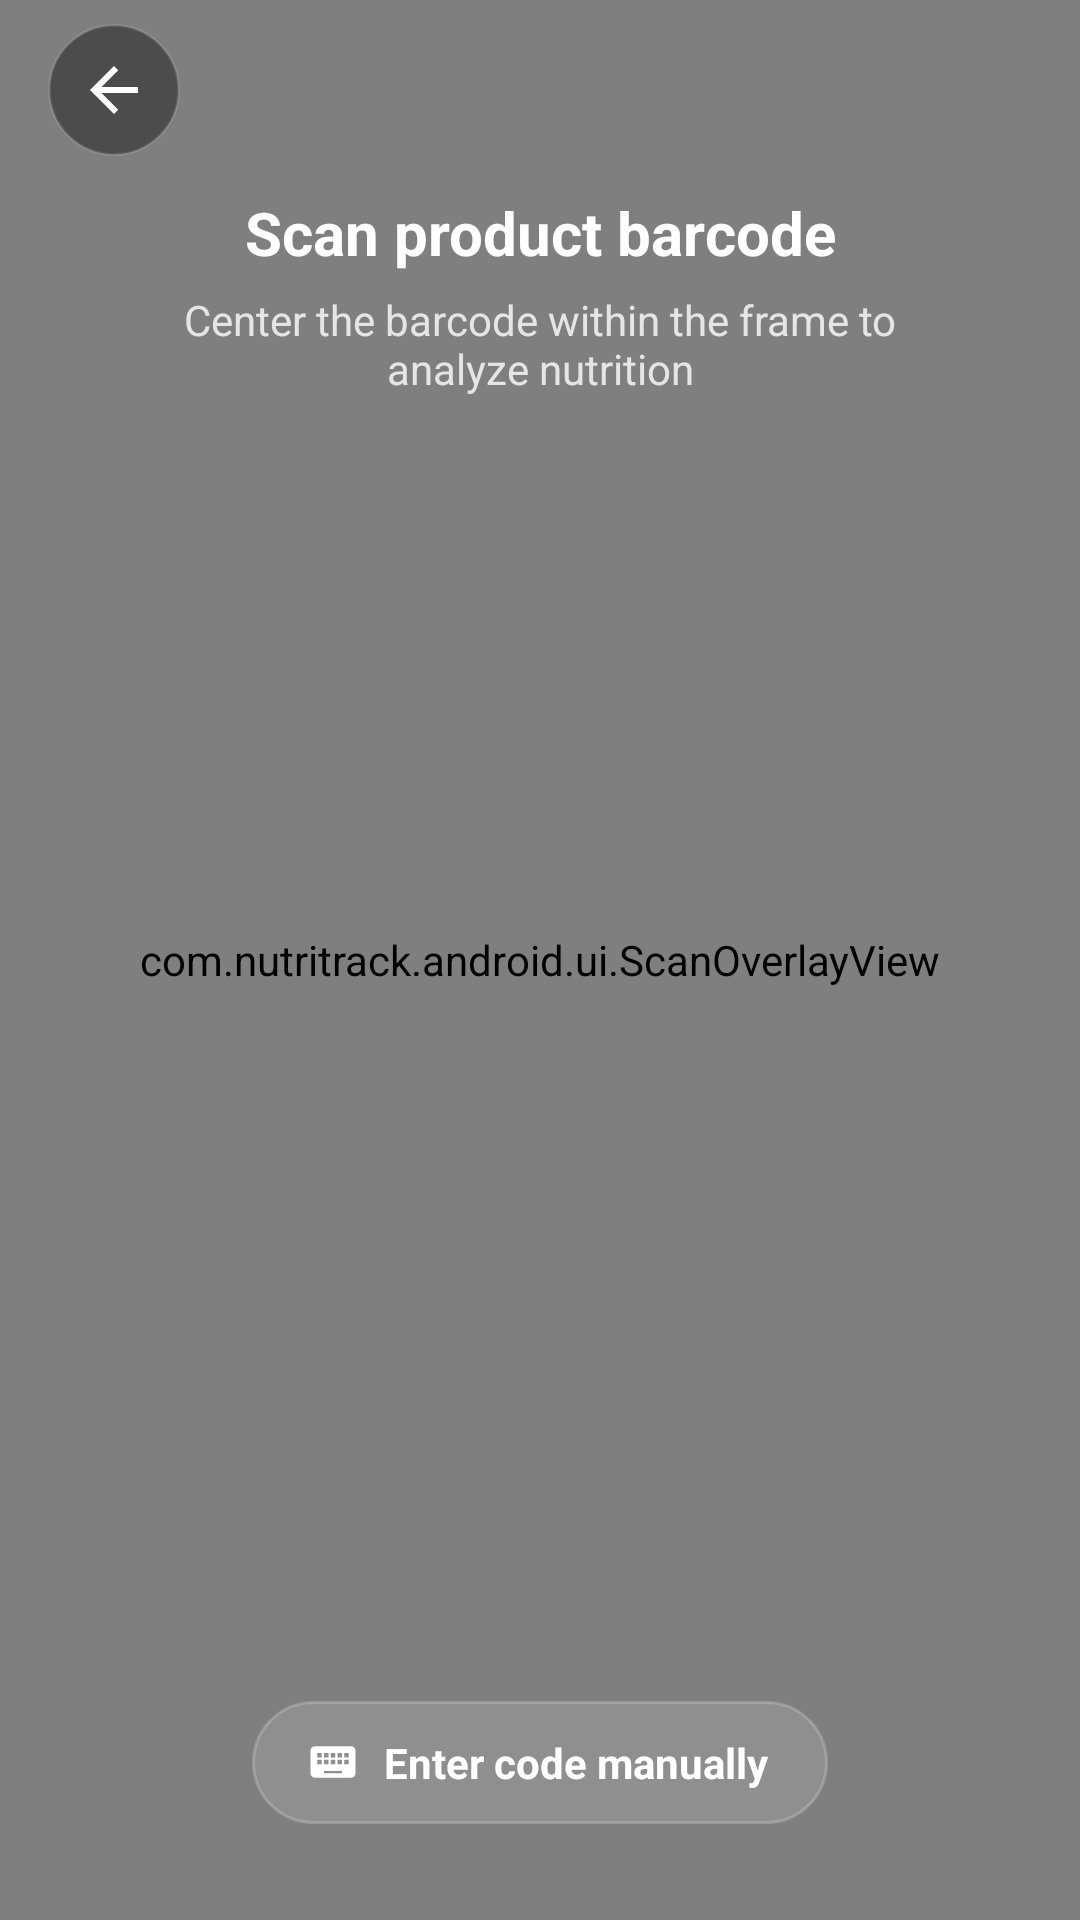

Point at icon controls on the screen. Image size 1080x1920, points as (x=x, y=y).
Back: (x=114, y=90)
keyboard: (x=333, y=1762)
